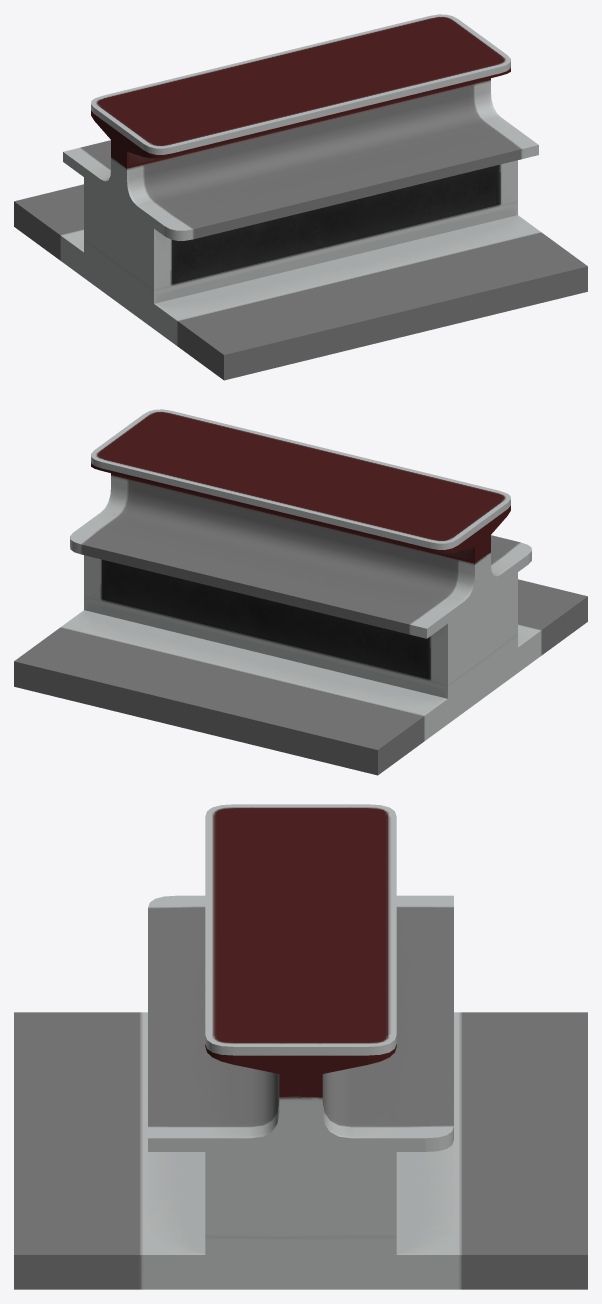
Rendered from Room_Floor_Line_C.FBX.
3 renders of one model, top to bottom at view 1: azimuth 30°, elevation 25°; view 2: azimuth 150°, elevation 25°; view 3: azimuth 270°, elevation 25°, orthographic. The views are drawn at different scales.
Parts seen in each view (by area): view 1: Room_Floor_Line_C; view 2: Room_Floor_Line_C; view 3: Room_Floor_Line_C.
Part boxes in pixels (box(x1,y1,x2,y2)): Room_Floor_Line_C: box(14, 14, 587, 380); Room_Floor_Line_C: box(14, 409, 587, 775); Room_Floor_Line_C: box(14, 804, 587, 1289).
Bounding box in the file's own units: 300 × 140 × 300.
Materials: 1 (1 with a texture image).
